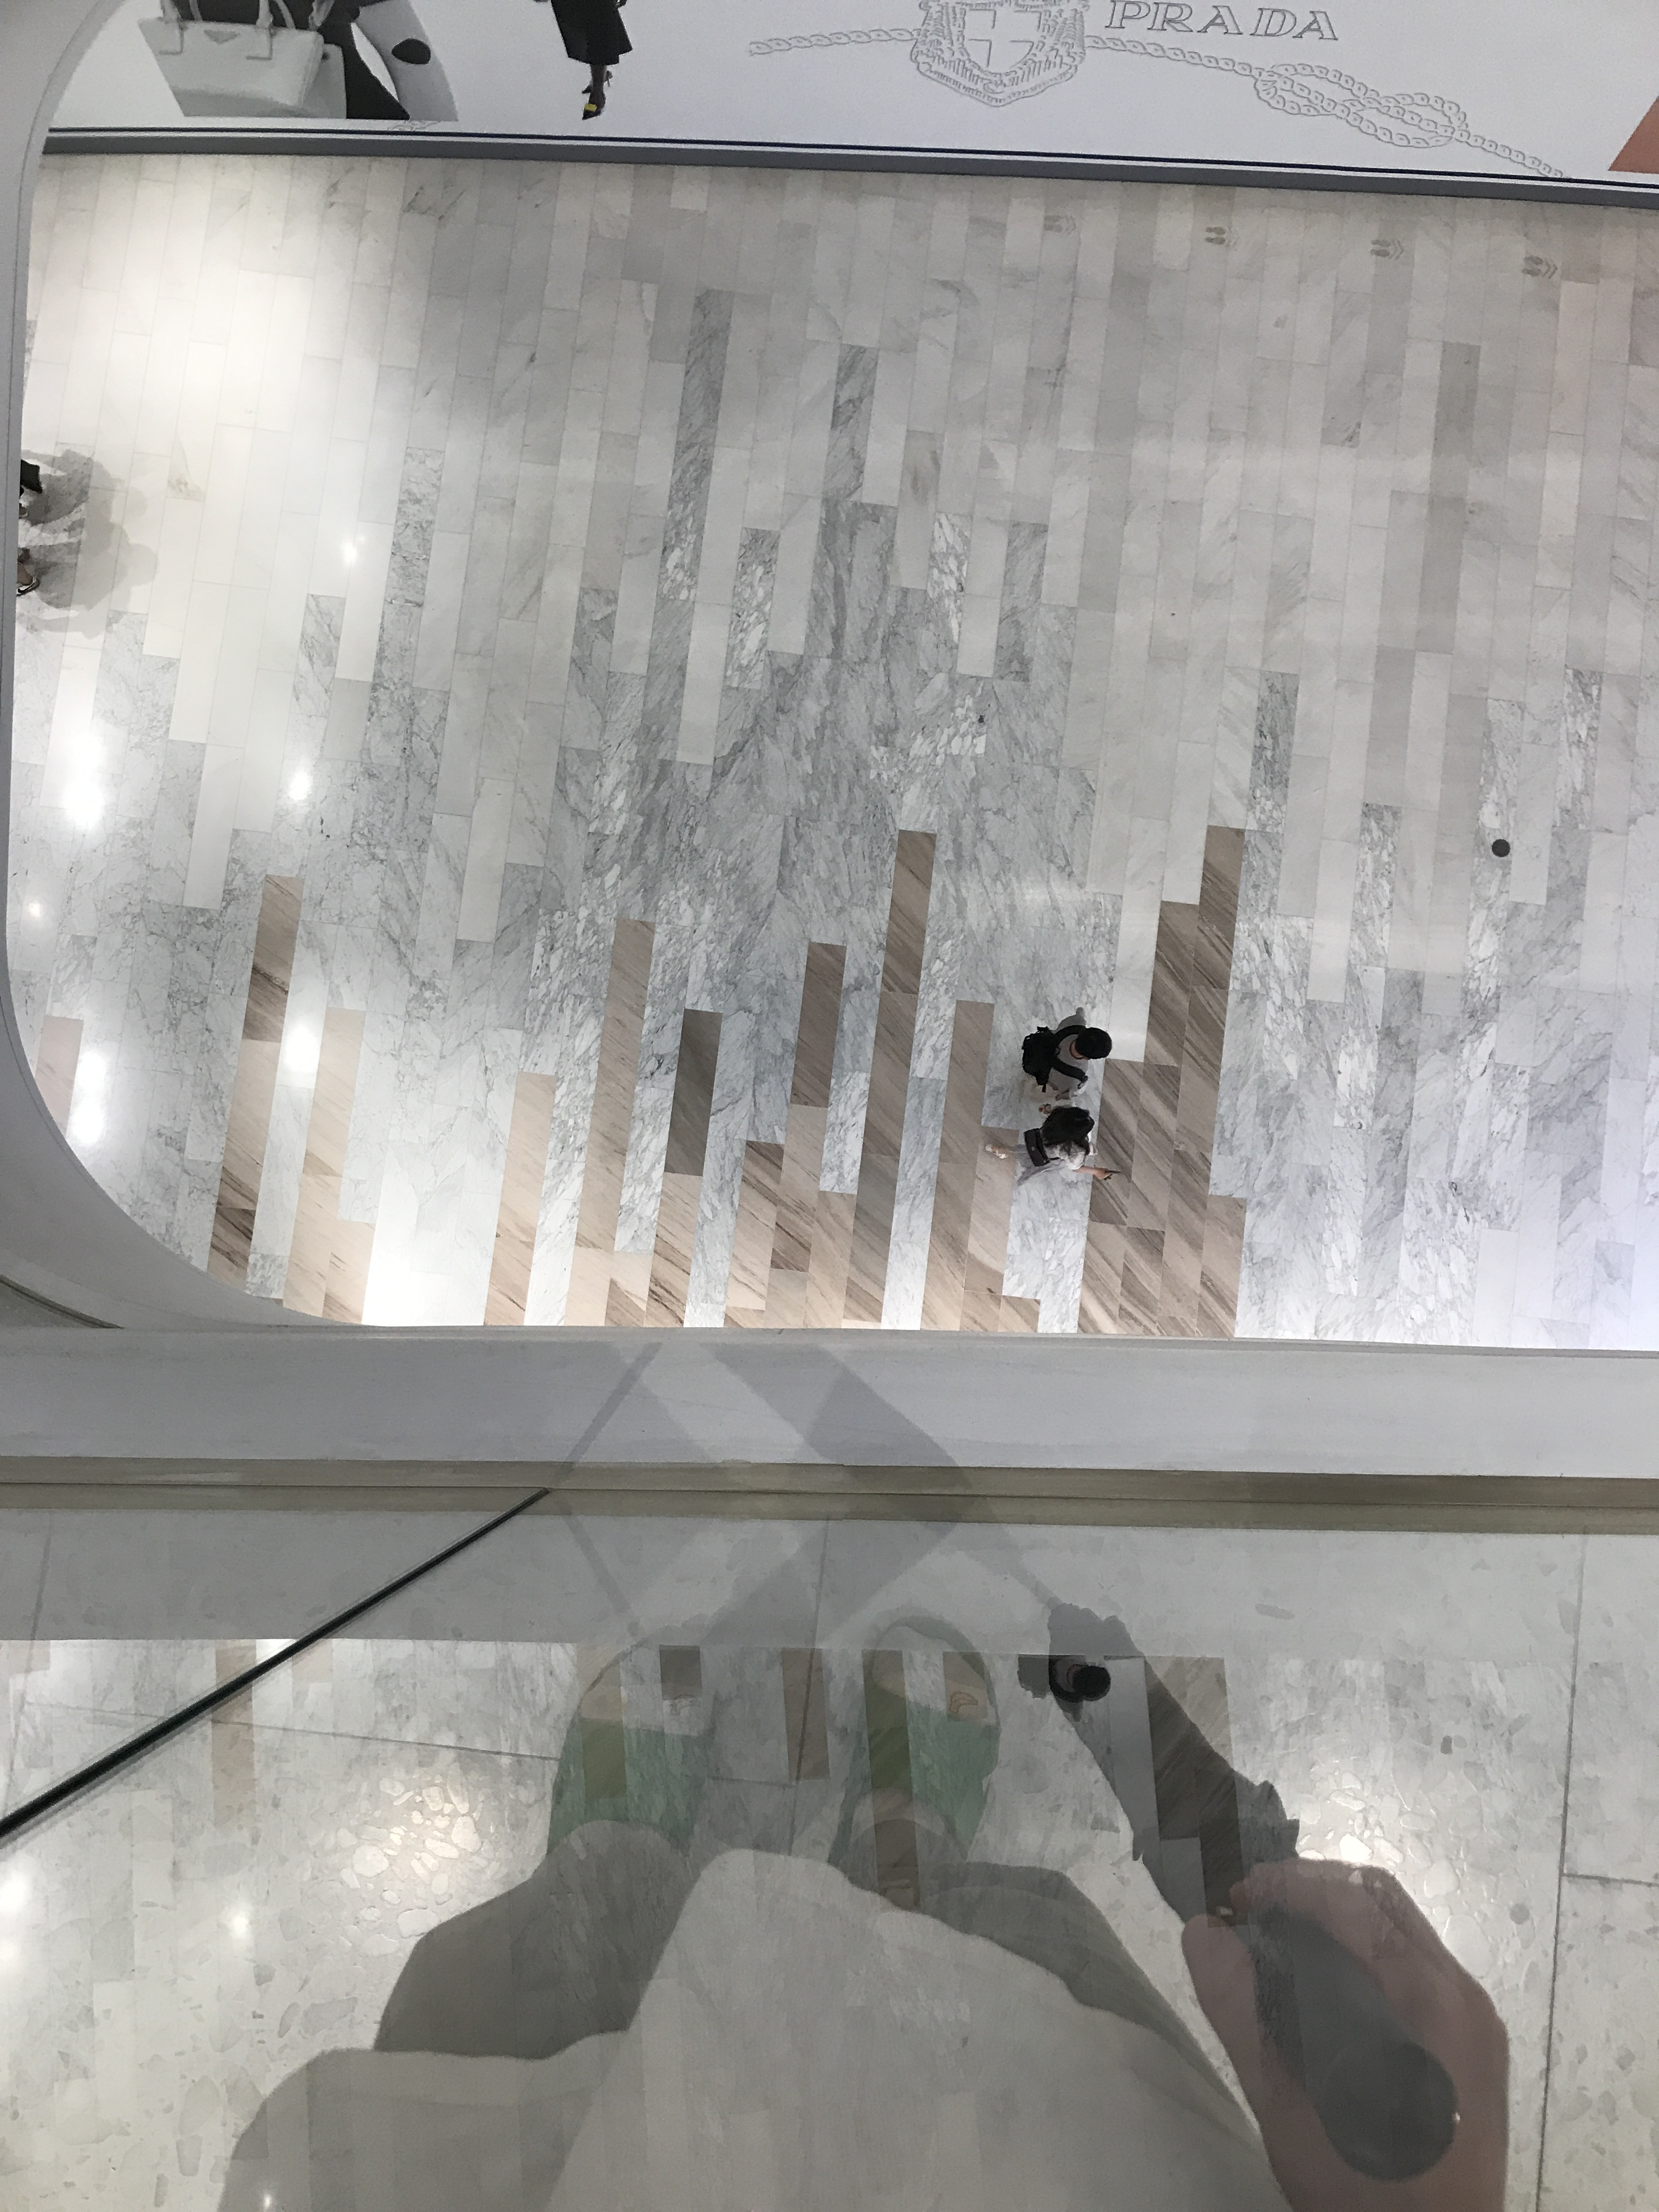person: (984, 1105, 1124, 1188), (1020, 1006, 1111, 1115)
